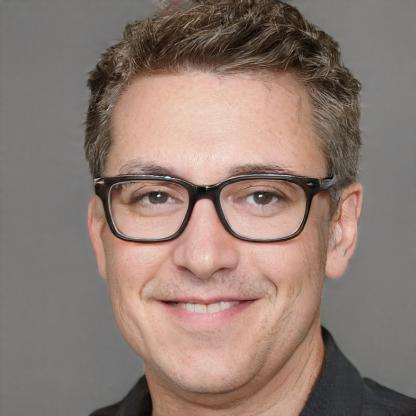glasses: (87, 170, 324, 249)
